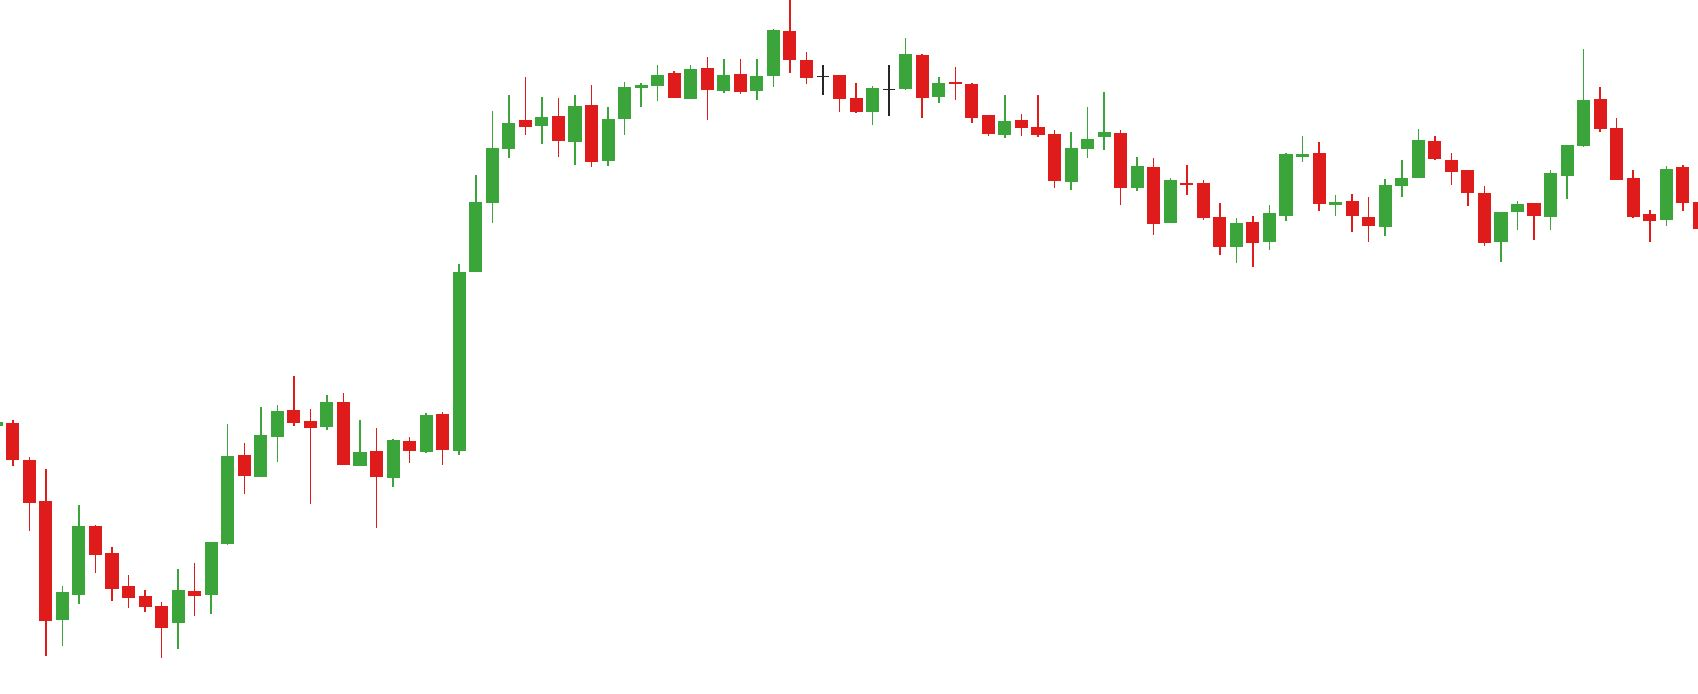buy: (53, 531, 184, 658), (1363, 193, 1508, 269)
sell: (1408, 52, 1606, 176)
